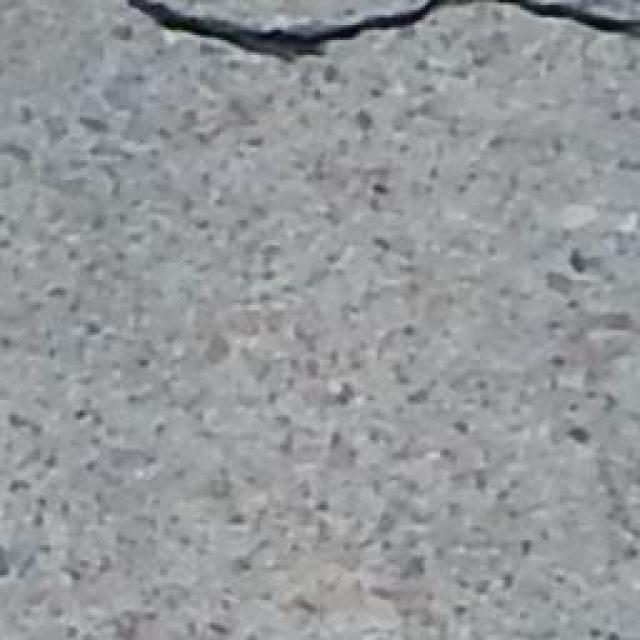concrete-crack: (128, 0, 637, 69)
